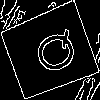Q: (24, 26, 82, 82)
